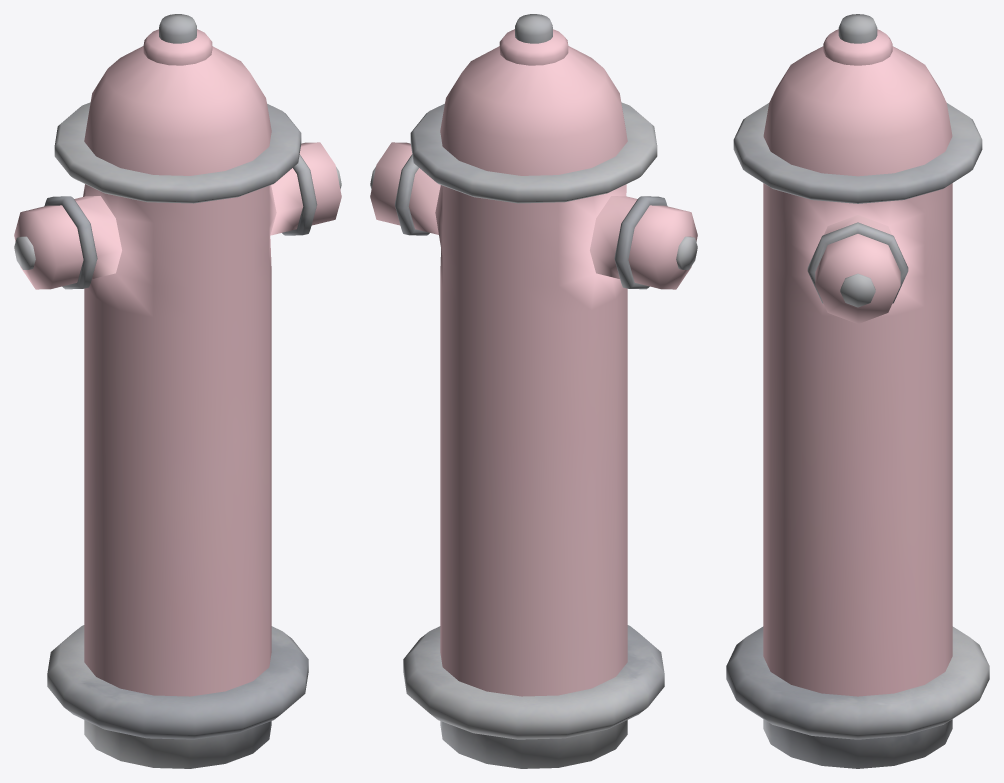
Rendered from FireHydrant.fbx.
The picture shows the model from 3 angles, left to right: view 1: azimuth 30°, elevation 25°; view 2: azimuth 150°, elevation 25°; view 3: azimuth 270°, elevation 25°; orthographic projection.
Visible parts, largest first — view 1: FireHydrant; view 2: FireHydrant; view 3: FireHydrant.
Boxes of the visible parts, box(x1,y1,x2,y2) form: FireHydrant: box(14, 14, 341, 768); FireHydrant: box(370, 14, 697, 768); FireHydrant: box(726, 14, 989, 768).
Bounding box in the file's own units: 48.13 × 104 × 35.
